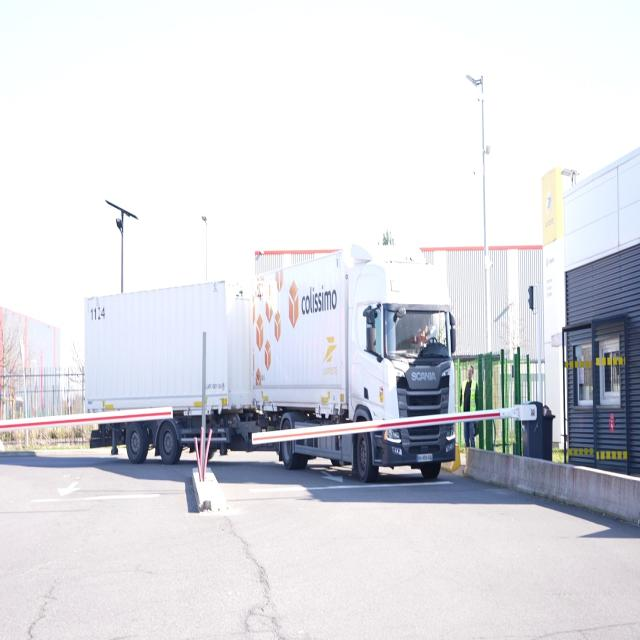Code: (86, 303, 111, 324)
